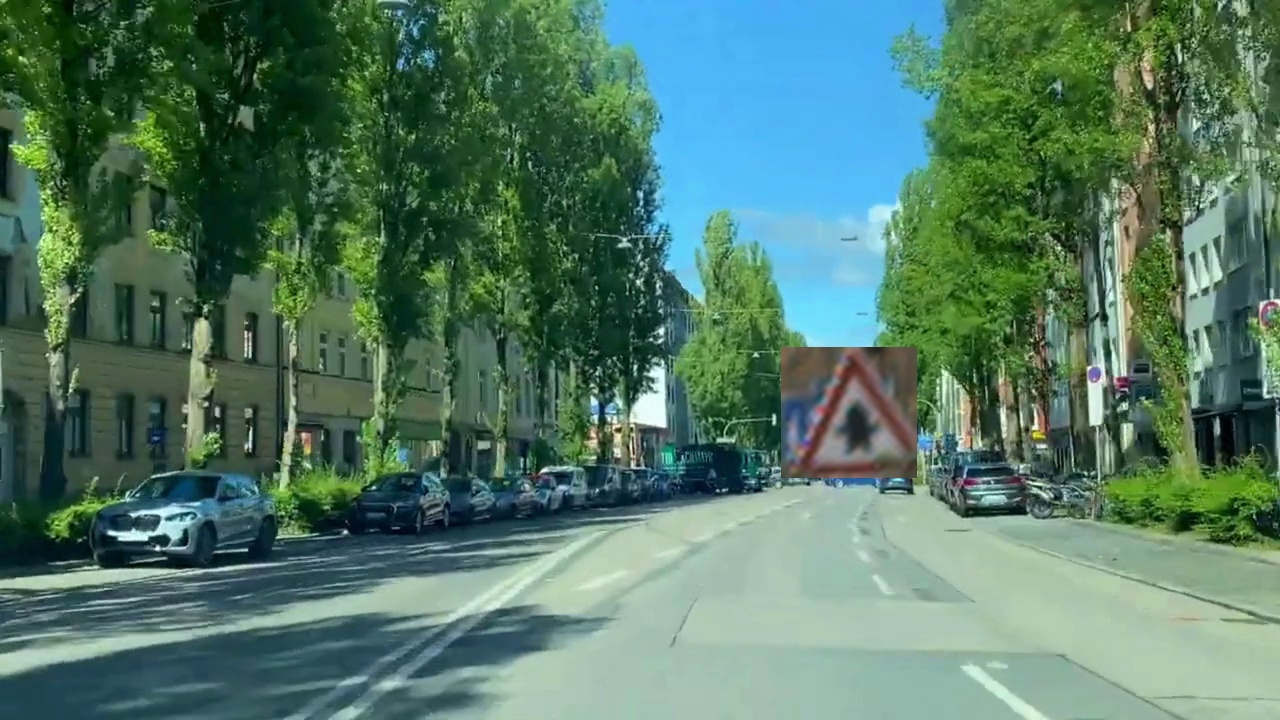Right-of-way: (781, 347, 917, 478)
